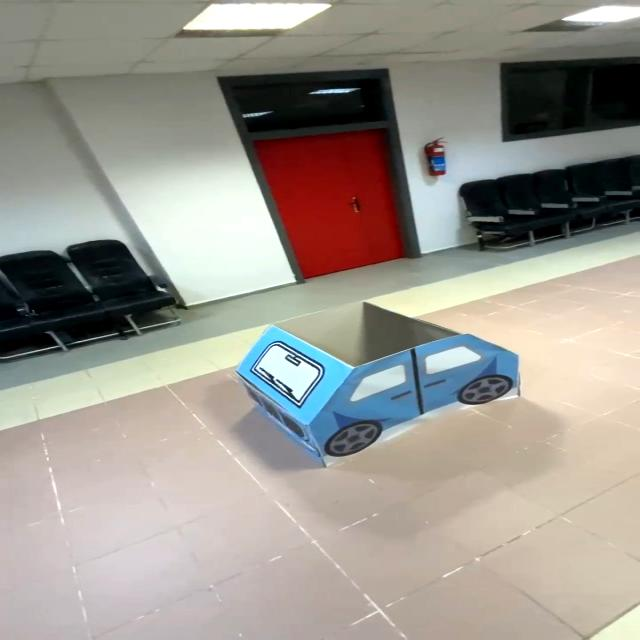blue_car: (217, 288, 540, 484)
